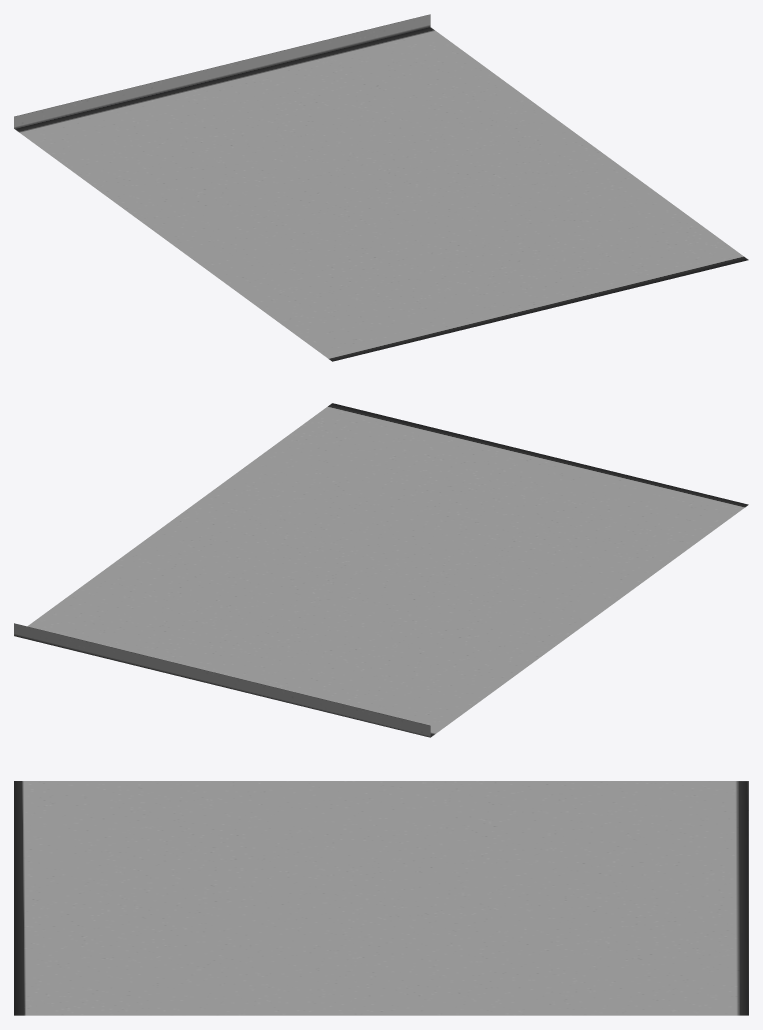
File: ceiling-2.fbx
The picture shows the model from 3 angles, top to bottom: view 1: azimuth 30°, elevation 25°; view 2: azimuth 150°, elevation 25°; view 3: azimuth 270°, elevation 25°; orthographic projection. The views are drawn at different scales.
Parts seen in each view (by area): view 1: pCube54; view 2: pCube54; view 3: pCube54.
Part boxes in pixels (box(x1,y1,x2,y2)): pCube54: box(14, 14, 748, 361); pCube54: box(14, 403, 748, 737); pCube54: box(14, 781, 748, 1015).
Size of the model in its own units: 3.4 by 0.1 by 4.5.
Materials: 1 (1 with a texture image).
